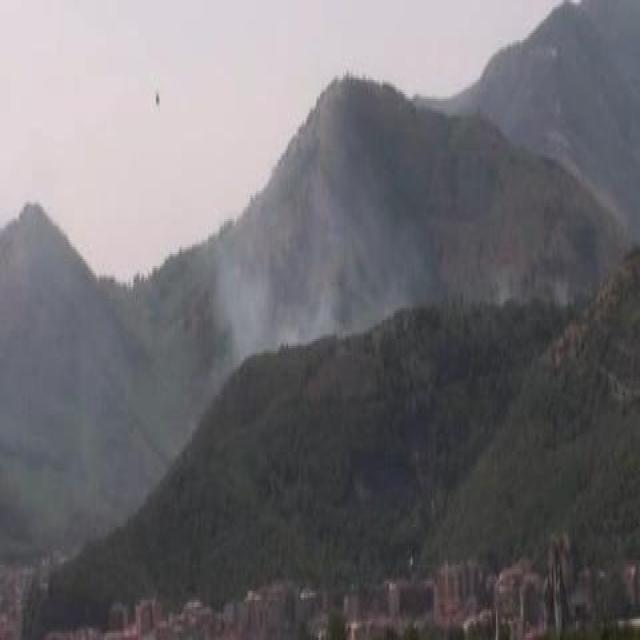Smoke: (217, 171, 380, 354)
